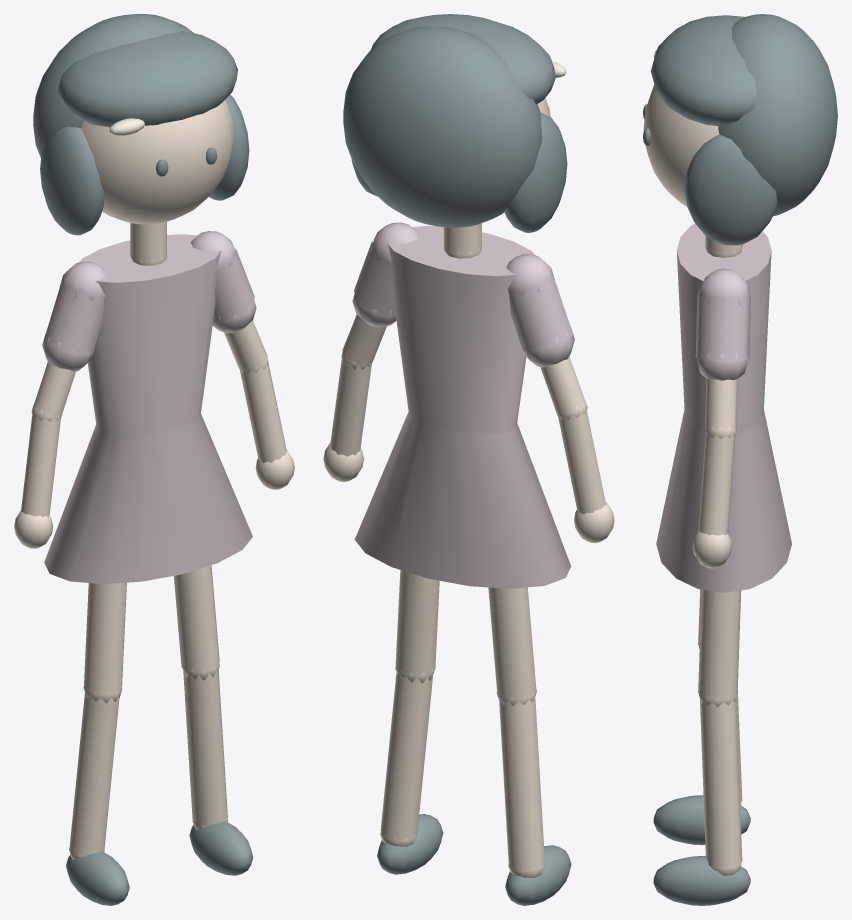
File: avatar-girl.glb
3 renders of one model, left to right at view 1: azimuth 30°, elevation 25°; view 2: azimuth 150°, elevation 25°; view 3: azimuth 270°, elevation 25°, orthographic. The views are drawn at different scales.
Visible parts, largest first — view 1: girl; view 2: girl; view 3: girl.
Boxes of the visible parts, box(x1,y1,x2,y2) form: girl: box(14, 14, 294, 905); girl: box(323, 14, 614, 905); girl: box(643, 14, 837, 905).
Size of the model in its own units: 0.406 by 1.19 by 0.2467.
